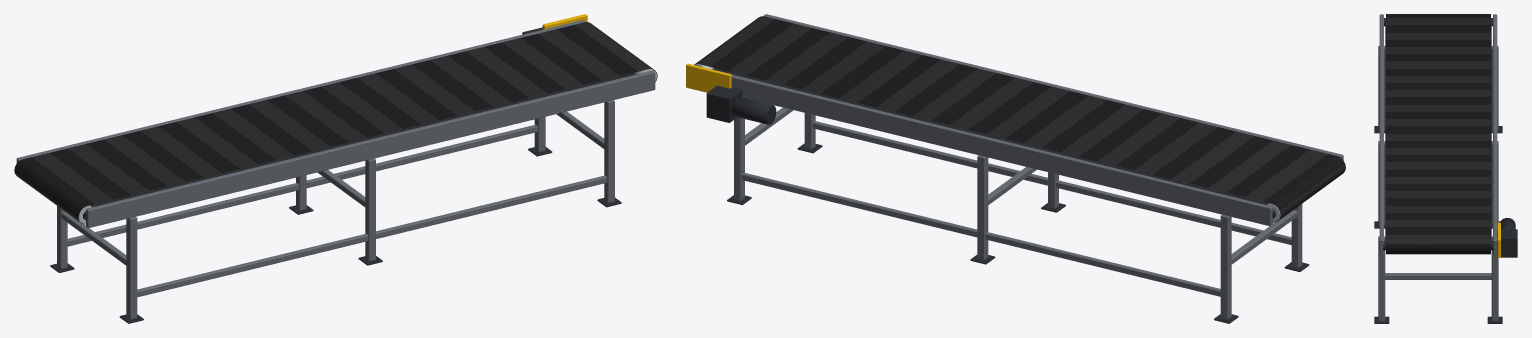
File: belt_conveyor_4m.glb
3 views of the same model, side by side, from view 1: azimuth 30°, elevation 25°; view 2: azimuth 150°, elevation 25°; view 3: azimuth 270°, elevation 25° (orthographic). The views are drawn at different scales.
Parts seen in each view (by area): view 1: Belt, Conveyor_Static; view 2: Belt, Conveyor_Static; view 3: Belt, Conveyor_Static.
Boxes of the visible parts, x1=… form: Belt: x1=14, y1=22, x2=657, y2=224; Conveyor_Static: x1=16, y1=14, x2=655, y2=323; Belt: x1=694, y1=16, x2=1345, y2=222; Conveyor_Static: x1=686, y1=14, x2=1343, y2=323; Belt: x1=1386, y1=14, x2=1490, y2=254; Conveyor_Static: x1=1374, y1=14, x2=1517, y2=323.
Size of the model in its own units: 4 by 0.815 by 1.05.
Materials: 5 (1 with a texture image).
